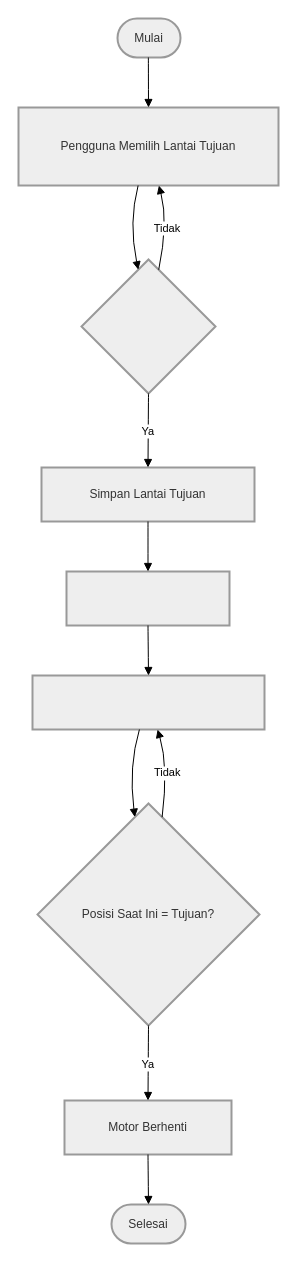
Image size: 296x1261. Some labels were removed from this diagram. Each missing label, with the centre of its shape:
"Aktifkan Clock" belongs at [147,598].
"Enable = 1?" belongs at [148,326].
"Motor Bergerak 1 Lantai" belongs at [148,702].
